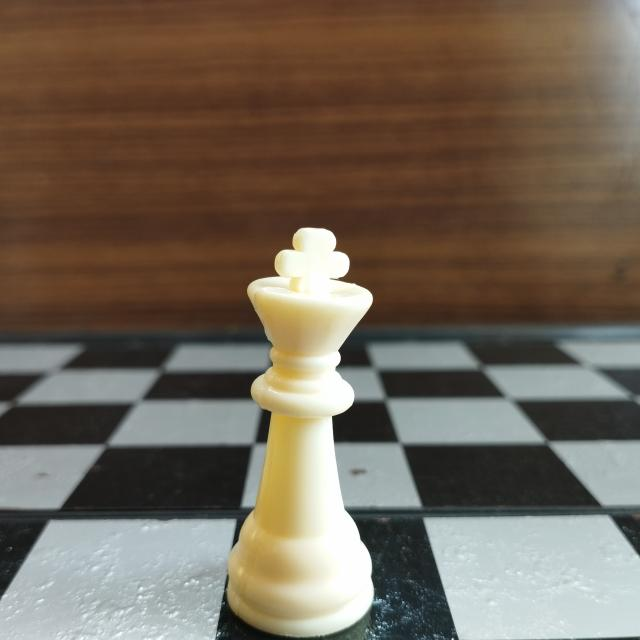White King: (214, 211, 391, 640)
